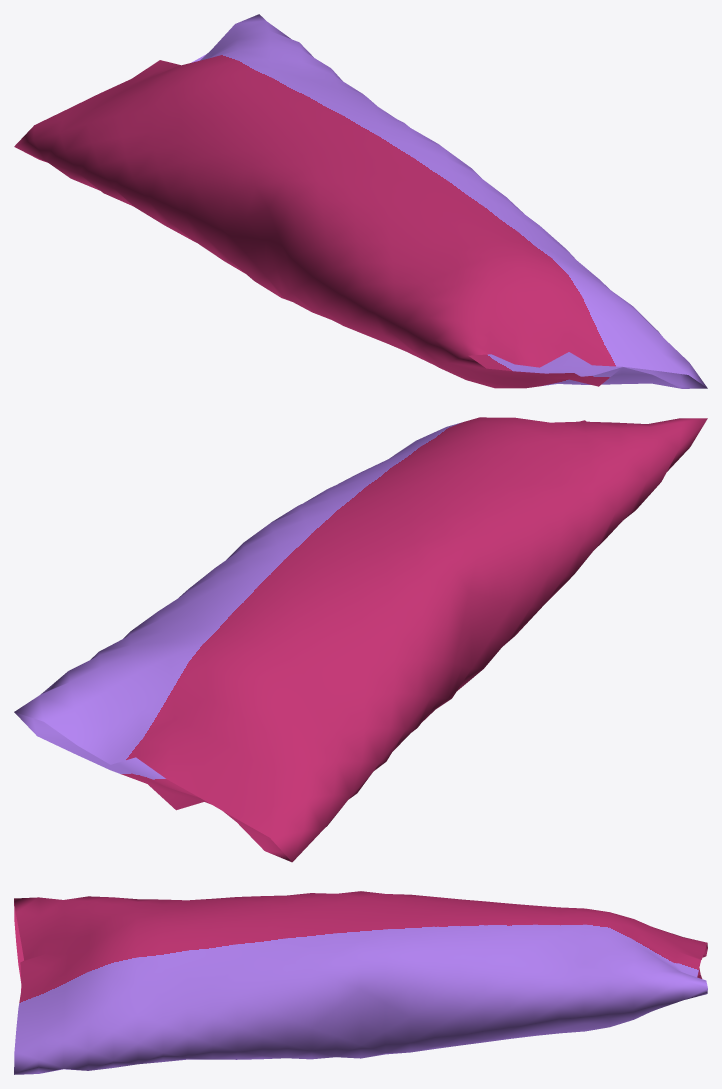
Rendered from paqueteMasita.001.fbx.
3 renders of one model, top to bottom at view 1: azimuth 30°, elevation 25°; view 2: azimuth 150°, elevation 25°; view 3: azimuth 270°, elevation 25°, orthographic. The views are drawn at different scales.
Parts seen in each view (by area): view 1: paqueteMasita.001; view 2: paqueteMasita.001; view 3: paqueteMasita.001.
Part boxes in pixels (x1=…): paqueteMasita.001: x1=14, y1=14, x2=707, y2=388; paqueteMasita.001: x1=14, y1=417, x2=707, y2=862; paqueteMasita.001: x1=14, y1=891, x2=707, y2=1074.
Bounding box in the file's own units: 27.37 × 13.12 × 68.53.
